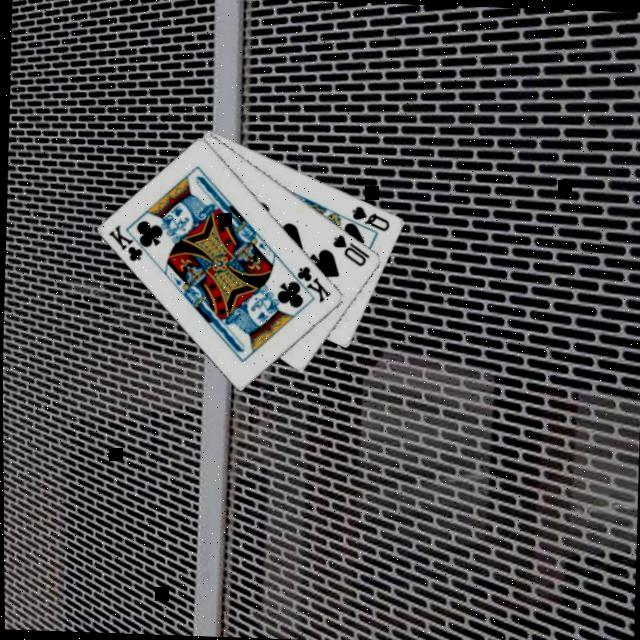10S: (326, 228, 370, 267)
KC: (282, 260, 332, 304), (102, 219, 152, 263)
QS: (345, 200, 390, 233)
